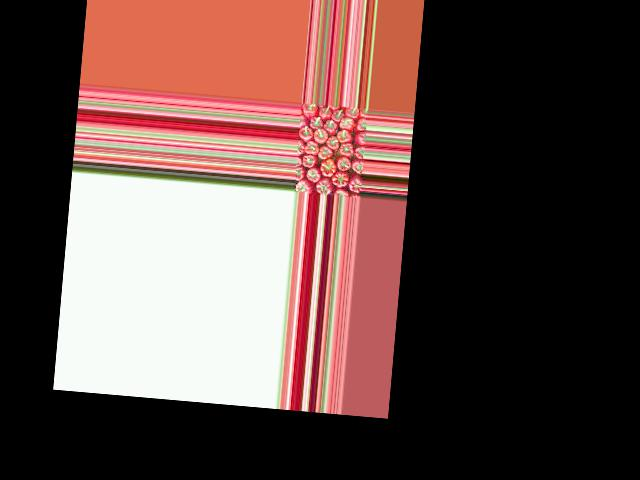bell_pepper: (301, 103, 316, 118)
